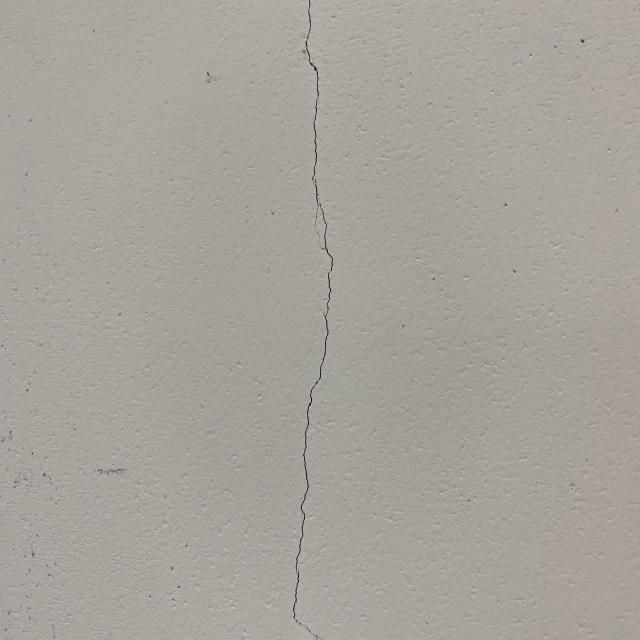SurfaceCrack: (243, 0, 377, 640)
